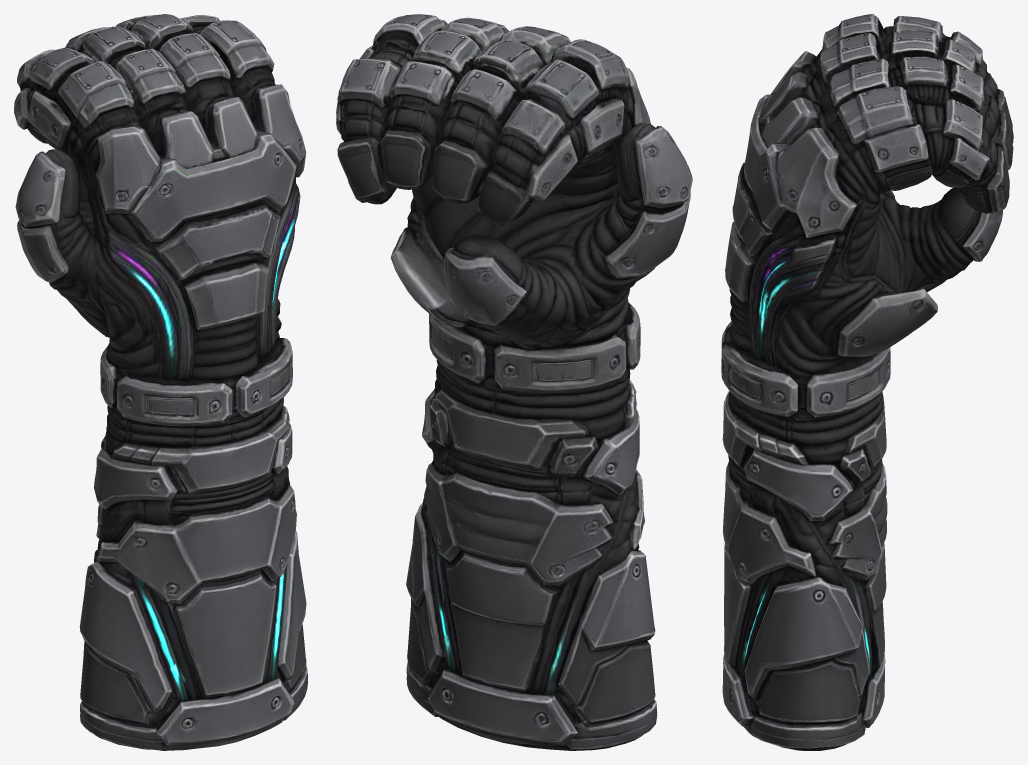
File: glove.glb
3 views of the same model, side by side, from view 1: azimuth 30°, elevation 25°; view 2: azimuth 150°, elevation 25°; view 3: azimuth 270°, elevation 25° (orthographic). The views are drawn at different scales.
Visible parts, largest first — view 1: SM_glove; view 2: SM_glove; view 3: SM_glove.
Part boxes in pixels (box(x1,y1,x2,y2)): SM_glove: box(14, 14, 307, 750); SM_glove: box(336, 14, 692, 750); SM_glove: box(721, 14, 1013, 750).
Bounding box in the file's own units: 0.4158 × 0.9796 × 0.3918.
Materials: 1 (1 with a texture image).
